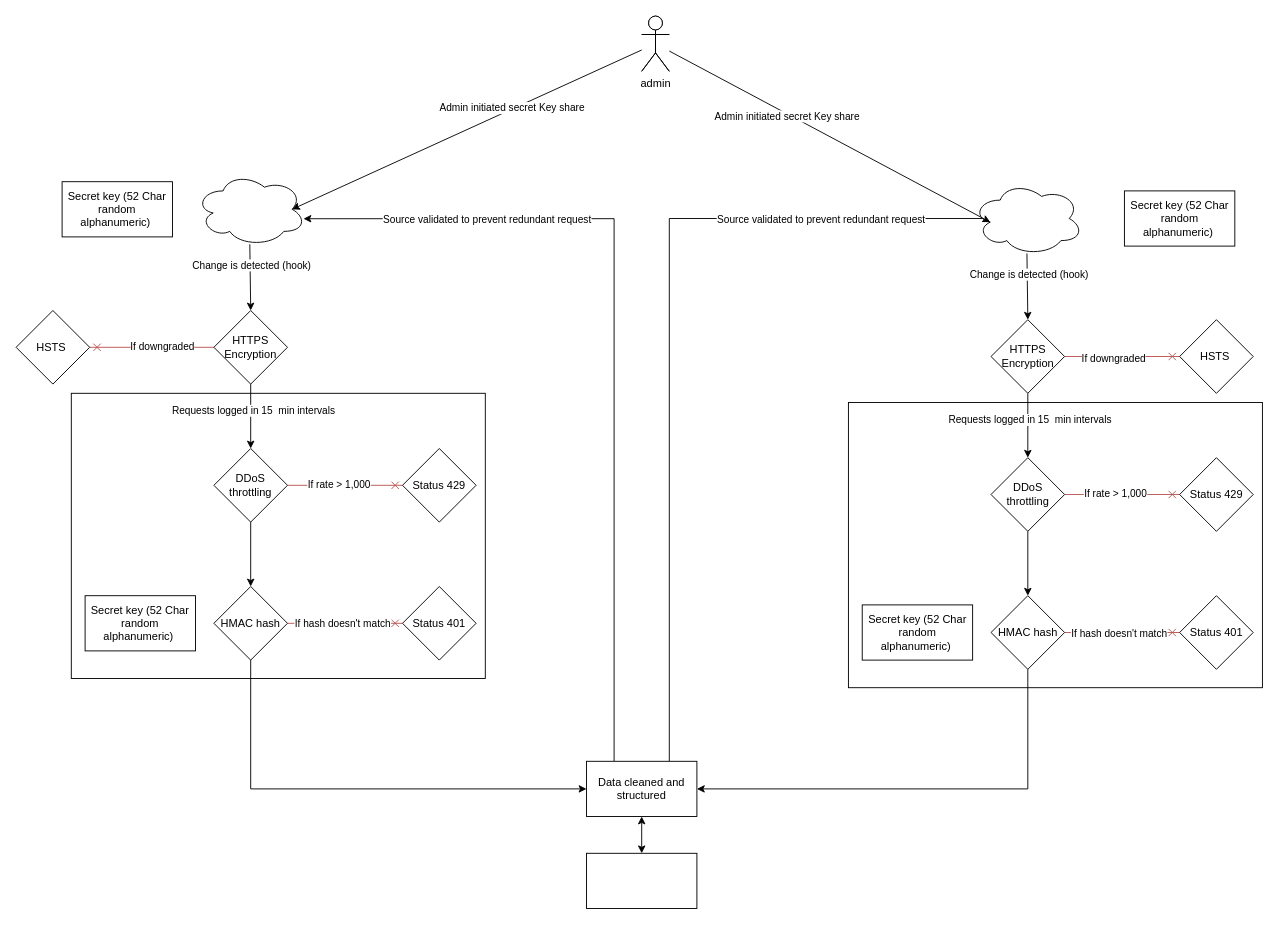
Some shapes in this 1279 by 925 pixel diagram are drawn without their labels. The centre of each missing label's shape, as x and y in pixels:
Service A: the point at 250,209
Service B: the point at 1027,218
Source data added: the point at 641,880
